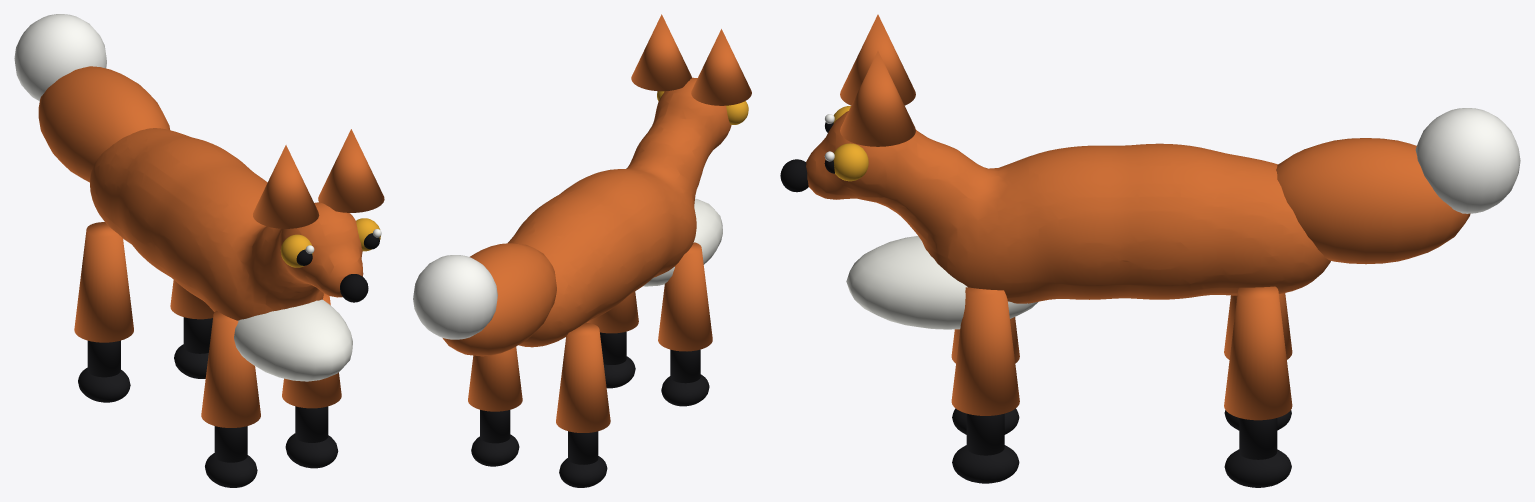
Rendered from Fox.obj.
The picture shows the model from 3 angles, left to right: view 1: azimuth 30°, elevation 25°; view 2: azimuth 150°, elevation 25°; view 3: azimuth 270°, elevation 25°; orthographic projection. The views are drawn at different scales.
Visible parts, largest first — view 1: Fox; view 2: Fox; view 3: Fox.
Part boxes in pixels (left/top/right/bottom): Fox: left=14, top=14, right=384, bottom=487; Fox: left=413, top=14, right=751, bottom=487; Fox: left=780, top=14, right=1520, bottom=487.
Bounding box in the file's own units: 1.54 × 3.7 × 5.84.
